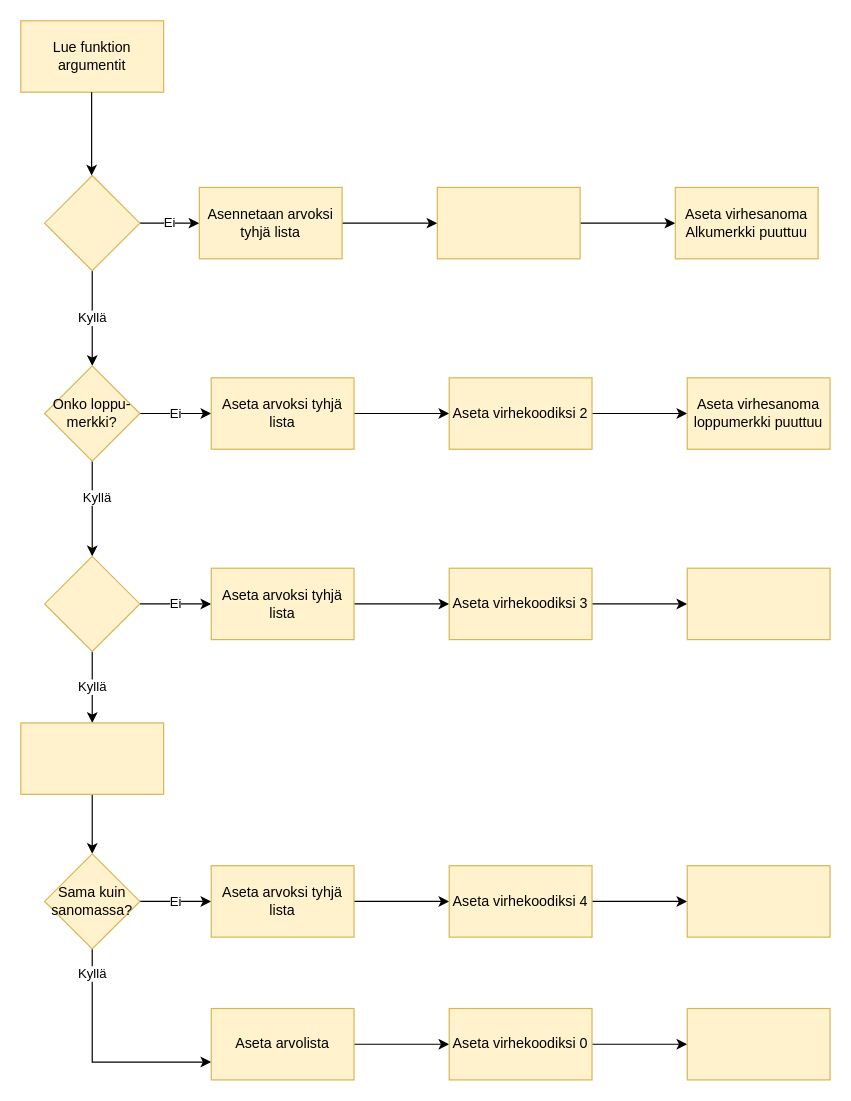
This 851x1101 diagram has some shape labels left out. Each missing label, with the box of its shape:
Aseta virhekoodiksi 1: (436, 186, 580, 259)
Aseta virhesanoma Data tai varmistussumma puuttuu: (686, 567, 830, 640)
Aseta virhesanoma Sanoma OK: (686, 1007, 830, 1080)
Aseta virhesanoma Varmistussumma virheellinen: (686, 865, 830, 937)
Laske varmistussumma uudelleen: (20, 722, 164, 794)
Onko alku-merkki?: (43, 174, 140, 271)
Osia >=2: (43, 555, 140, 652)
